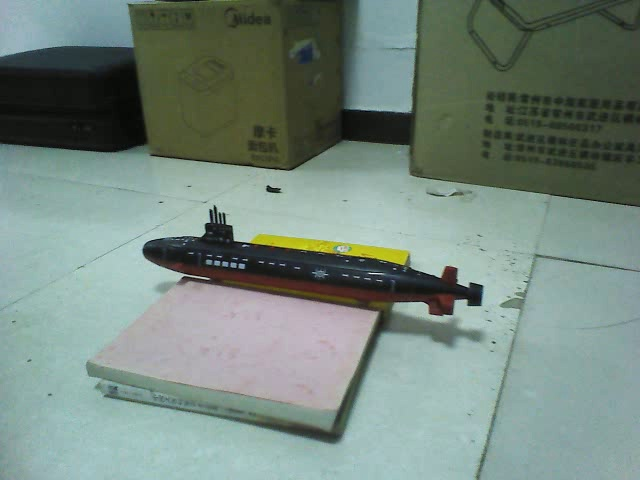submarine: (137, 206, 486, 322)
